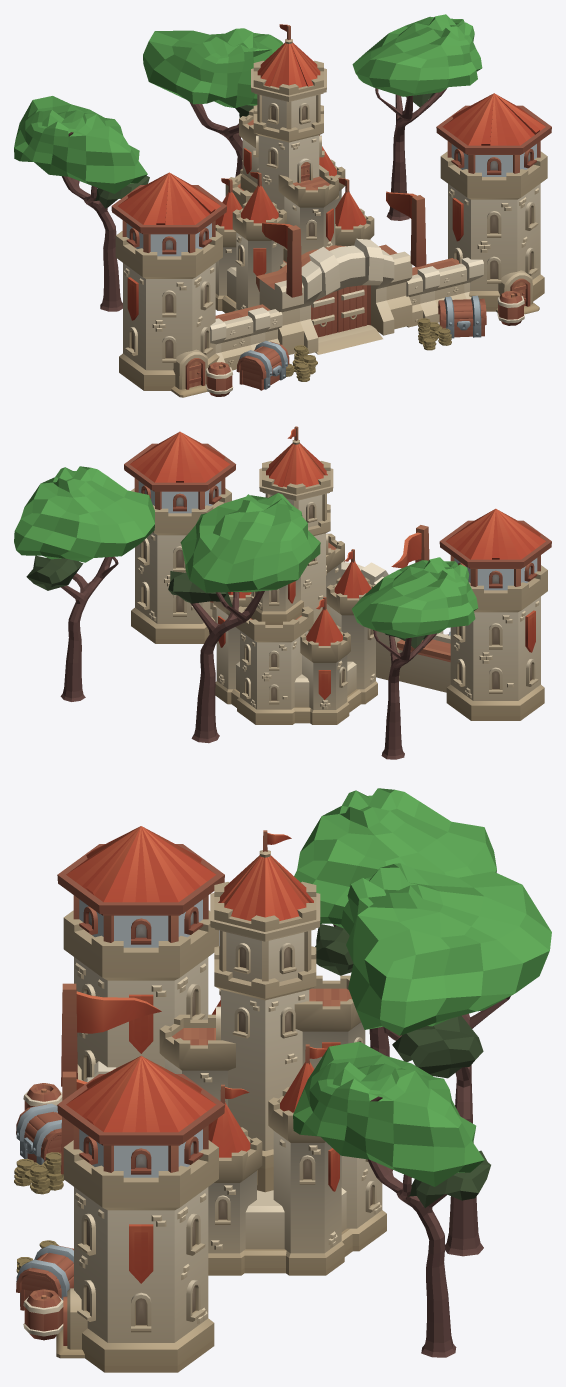
File: env_castle.glb
3 renders of one model, top to bottom at view 1: azimuth 30°, elevation 25°; view 2: azimuth 150°, elevation 25°; view 3: azimuth 270°, elevation 25°, orthographic. The views are drawn at different scales.
Visible parts, largest first — view 1: env_castle; view 2: env_castle; view 3: env_castle.
Part boxes in pixels (x1,y1,x2,y2): env_castle: [14, 14, 551, 397]; env_castle: [14, 426, 551, 759]; env_castle: [14, 788, 551, 1372].
Size of the model in its own units: 6.3 by 3.65 by 4.45.
1 material, 1 textured.
